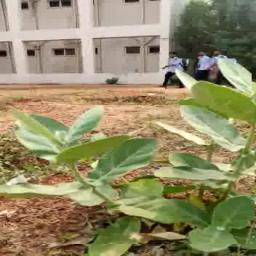Calotropis: (8, 106, 256, 244), (166, 58, 253, 100)
